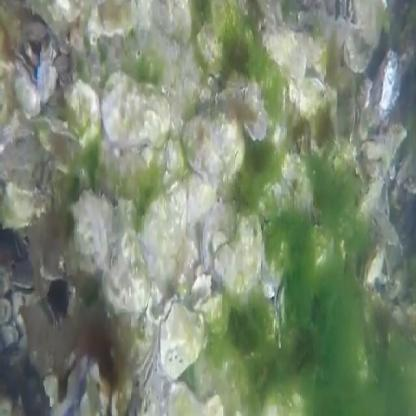3: (157, 298, 204, 378), (196, 291, 223, 337), (337, 99, 360, 142), (14, 51, 38, 89), (0, 317, 25, 350), (365, 245, 384, 286), (274, 286, 285, 348), (141, 353, 156, 395), (10, 277, 36, 298), (396, 152, 413, 183), (46, 301, 58, 337), (24, 40, 40, 66), (41, 44, 56, 63), (343, 0, 353, 18)
Oyster-Closed: (181, 108, 245, 179), (103, 230, 151, 312), (0, 136, 54, 193), (64, 79, 101, 148), (261, 26, 306, 82), (0, 184, 52, 231), (165, 383, 223, 416), (353, 0, 387, 49), (343, 32, 373, 71), (111, 370, 133, 416), (280, 154, 302, 180)
Oyster-Open: (103, 73, 171, 150), (137, 177, 187, 257), (74, 191, 114, 273), (200, 203, 238, 284), (88, 0, 151, 39), (216, 243, 261, 291), (149, 0, 192, 42), (290, 79, 326, 121), (13, 76, 40, 117), (237, 213, 262, 251), (358, 135, 386, 161), (354, 78, 373, 112), (243, 112, 265, 141), (225, 69, 247, 94), (392, 307, 406, 326)
